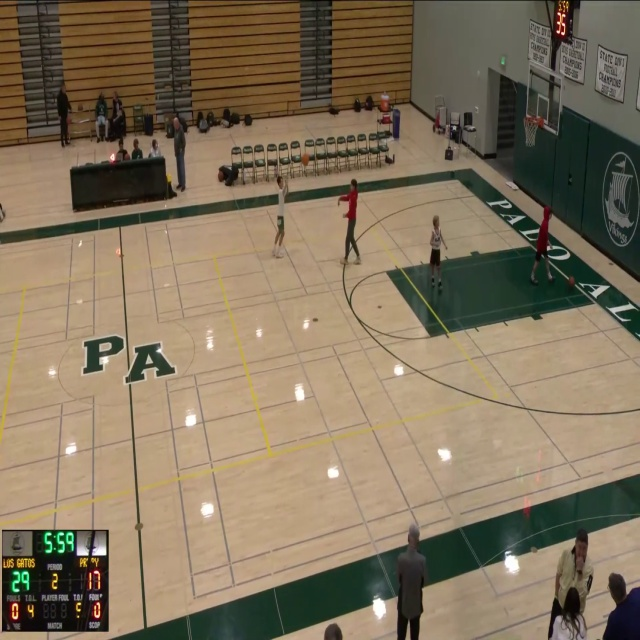Basketball: (301, 153, 309, 166), (568, 276, 575, 286)
